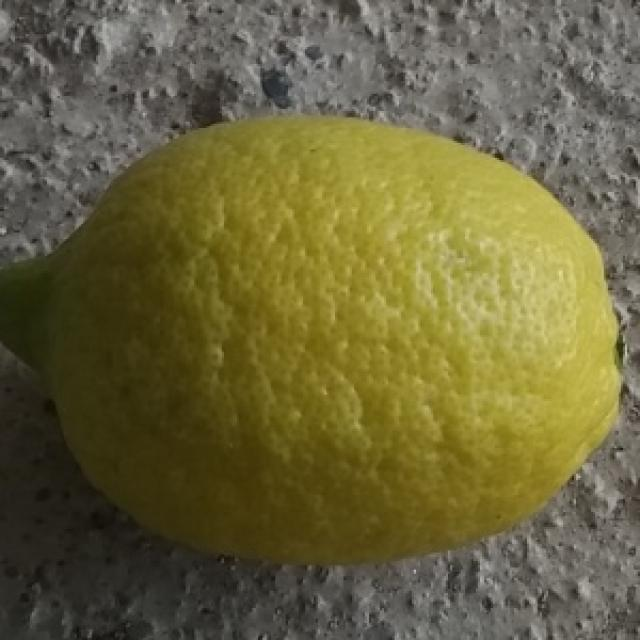Ripe: (0, 109, 626, 570)
